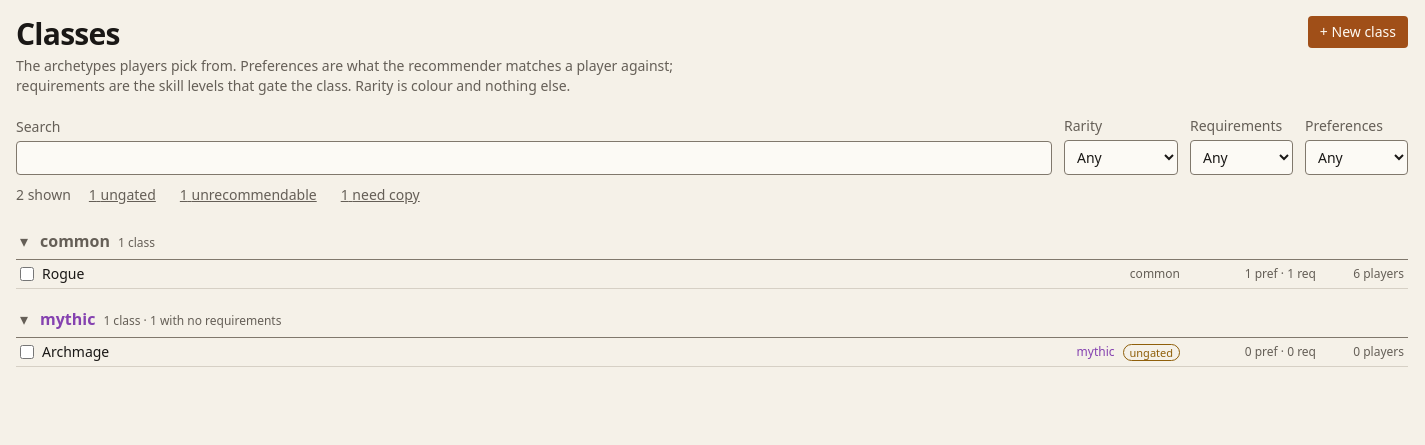
Test: AdminClassesPage › reports a partial bulk failure rather than hiding it behind a success
Click the checkbox named "Select Rogue": (27, 274) [20,267,34,281]
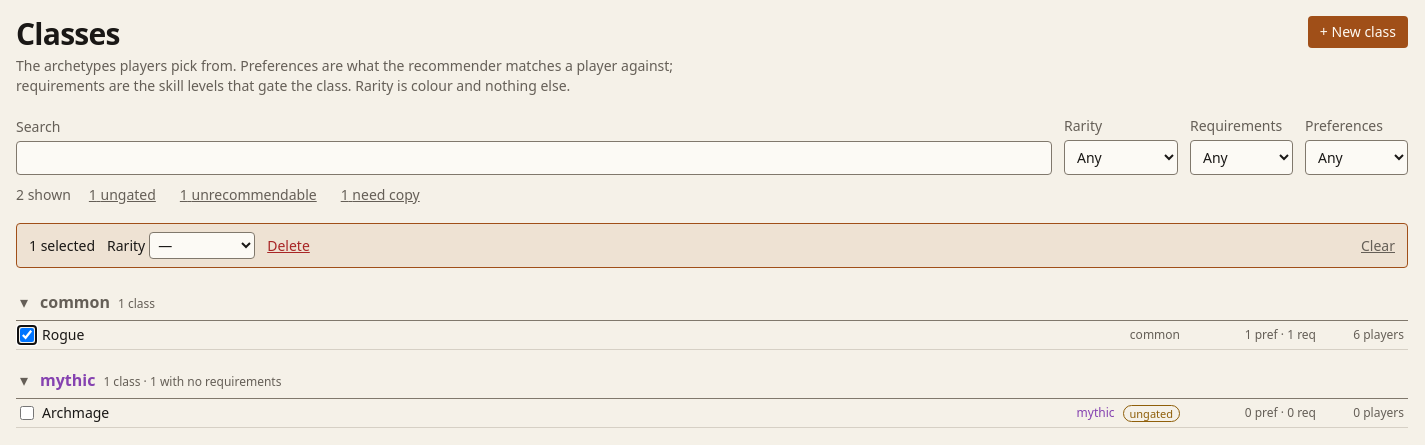
Click the checkbox named "Select Archmage": (27, 413) [20,406,34,420]
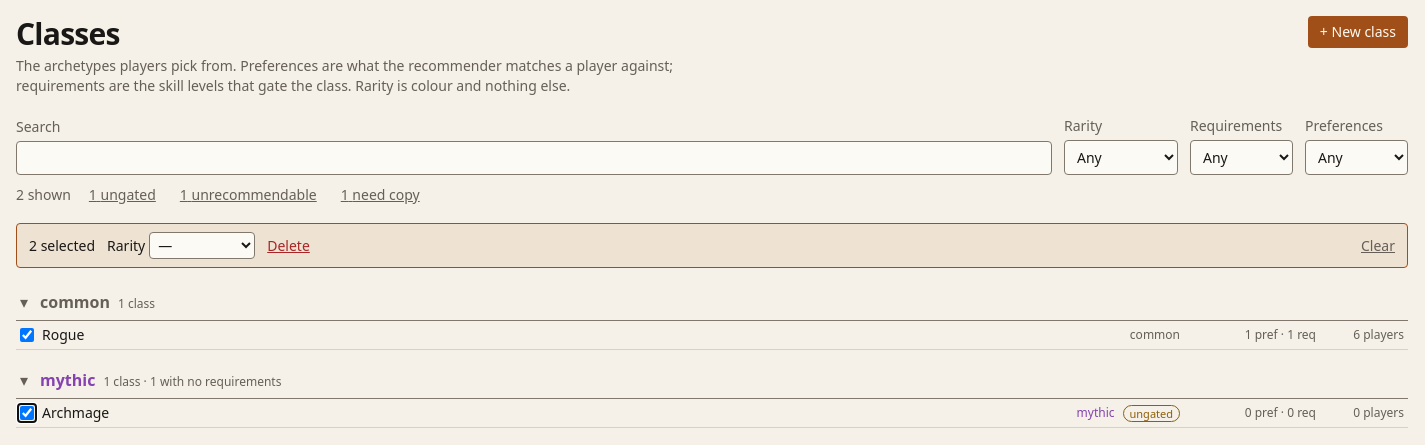
Select "rare" in the dropdown named "Set rarity for selected": (202, 246) [149,232,255,259]
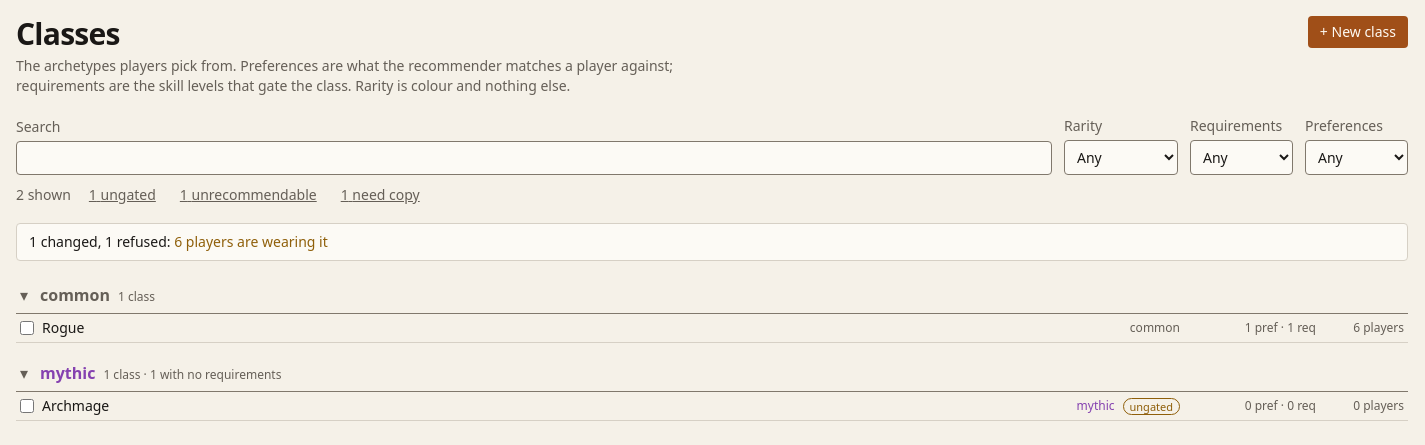
Expected: the text "1 changed, 1 refused: 6 players are wearing it" is shown, [16,223,1408,261]
Expected: the text "6 players are wearing it" is shown, [174,232,328,251]
